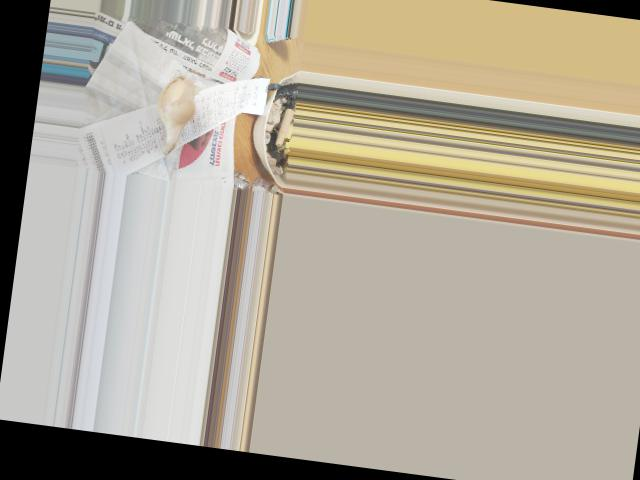onion: (153, 75, 196, 134)
